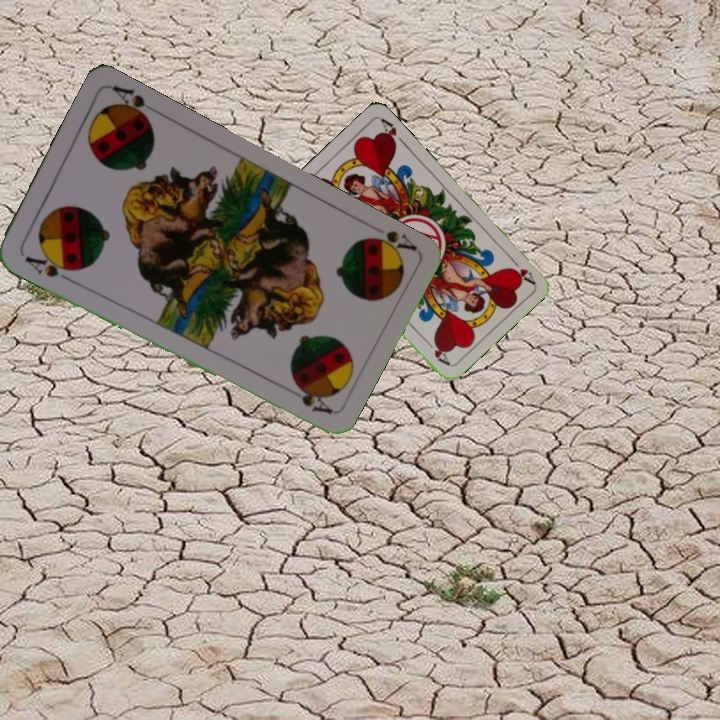HA: (505, 252, 537, 286)
SA: (358, 226, 420, 262), (20, 248, 78, 284)
